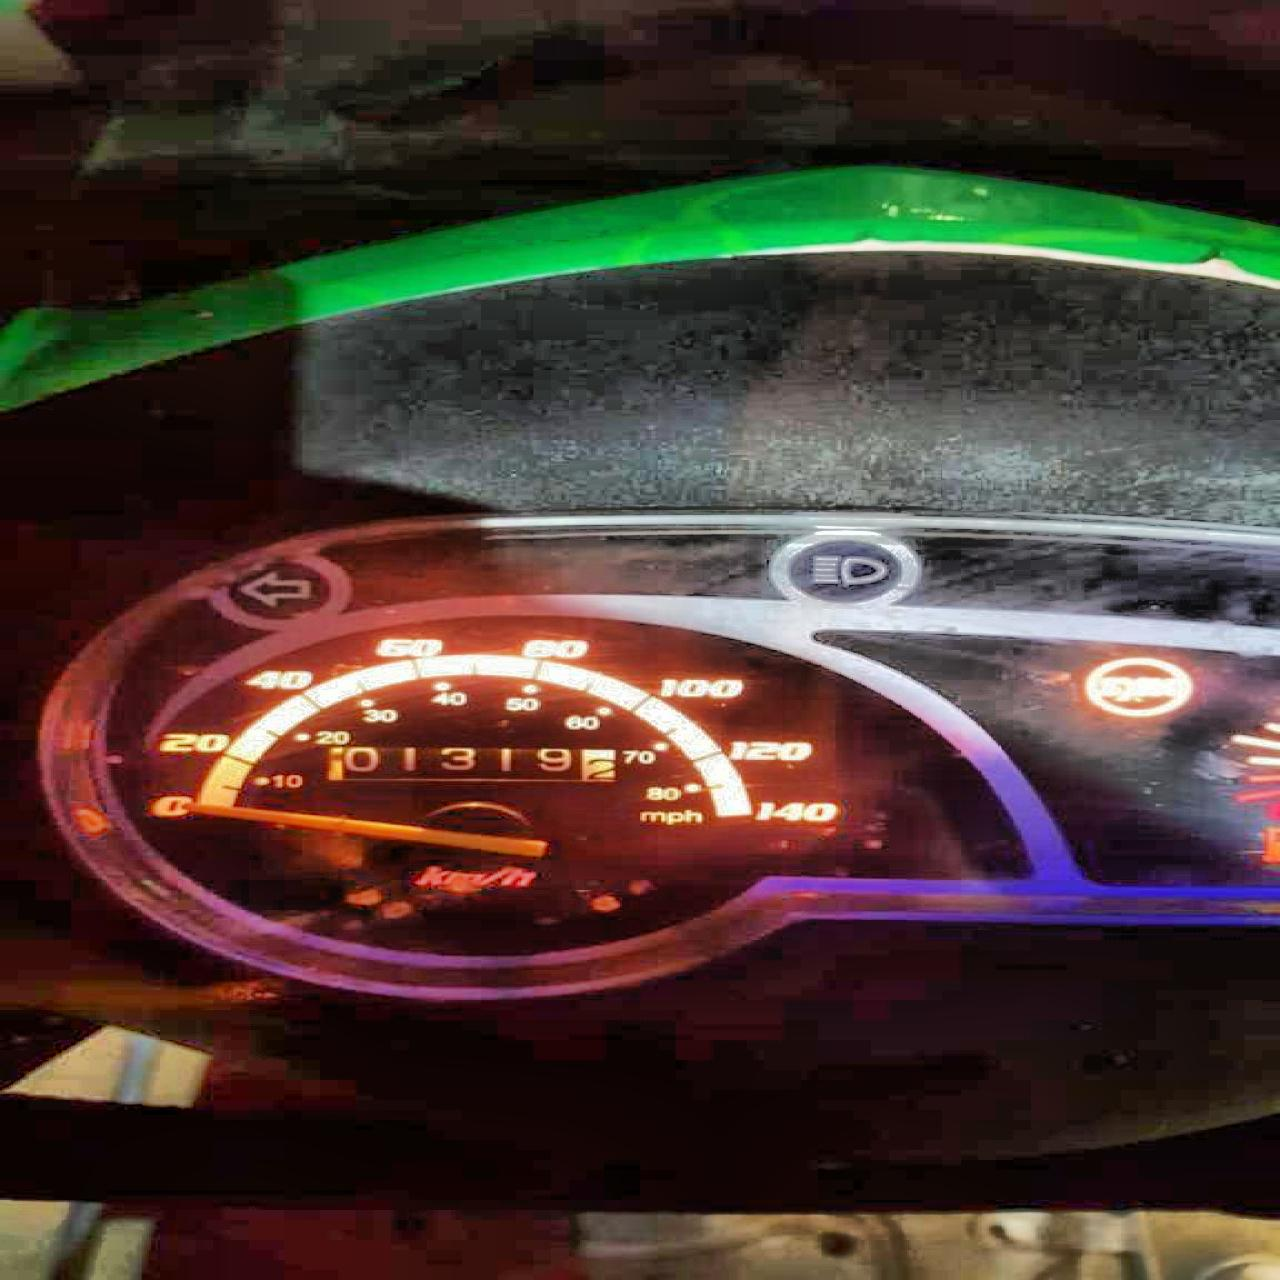0: (340, 745, 380, 771)
1: (489, 745, 516, 774), (399, 745, 420, 771)
2: (583, 756, 613, 779)
3: (436, 745, 477, 771)
9: (531, 747, 573, 772)
odometer: (320, 740, 622, 787)
